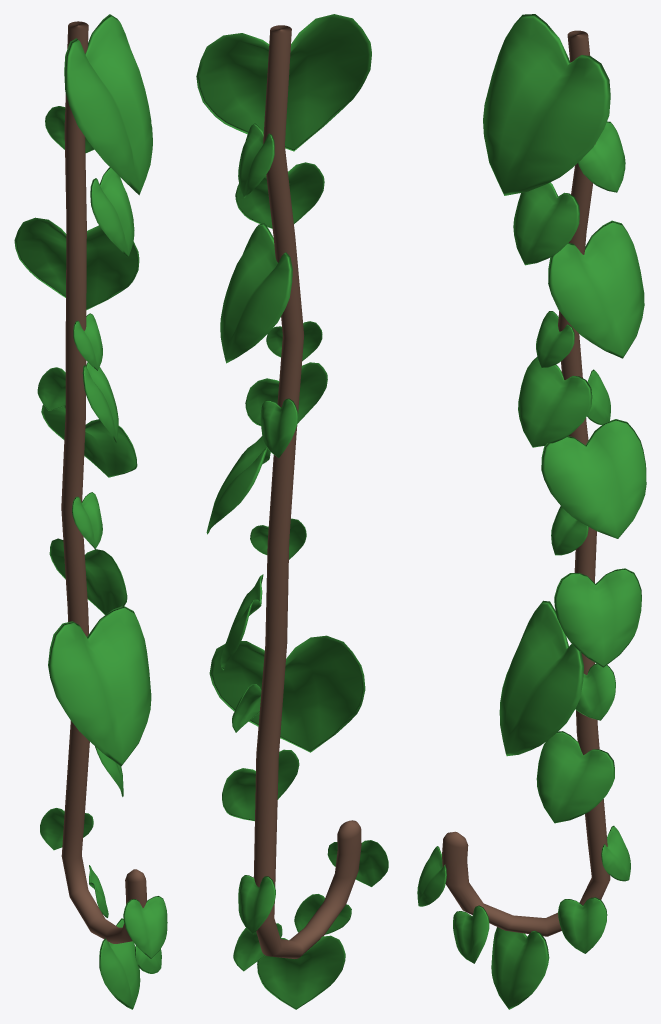
The model's file is vines without flowers 3.glb.
The picture shows the model from 3 angles, left to right: view 1: azimuth 30°, elevation 25°; view 2: azimuth 150°, elevation 25°; view 3: azimuth 270°, elevation 25°; orthographic projection. The views are drawn at different scales.
Parts seen in each view (by area): view 1: Cylinder.001; view 2: Cylinder.001; view 3: Cylinder.001.
Part boxes in pixels (<box>): Cylinder.001: <box>14,14,167,1009</box>; Cylinder.001: <box>196,14,388,1009</box>; Cylinder.001: <box>417,14,646,1009</box>.
Bounding box in the file's own units: 1.22 × 9.39 × 2.01.
